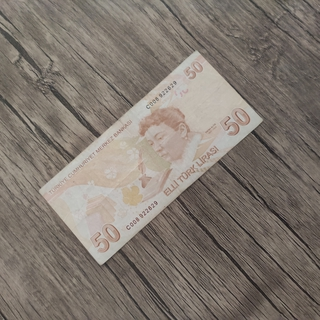50TLBack: (37, 49, 263, 264)
